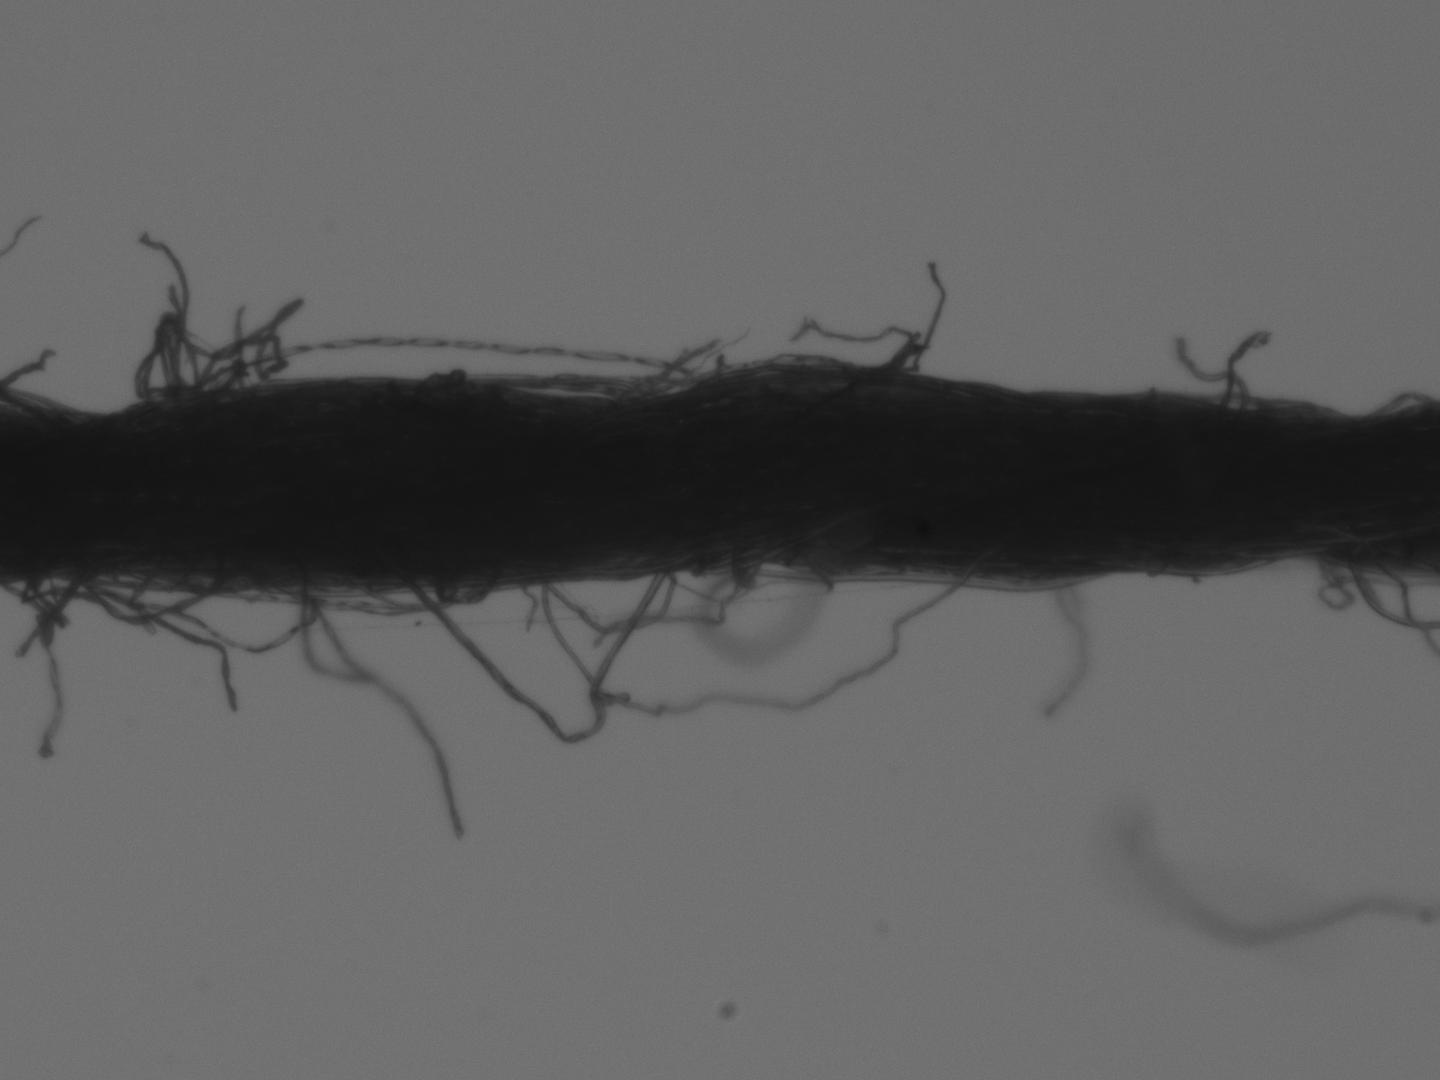loop_fiber: (398, 557, 610, 752), (129, 292, 308, 416), (531, 557, 684, 640), (78, 557, 231, 632), (410, 362, 664, 402), (671, 347, 857, 395), (1308, 543, 1364, 616), (1348, 385, 1437, 424), (430, 567, 505, 610)
protruding_fiber: (293, 571, 466, 844), (891, 252, 951, 383)
